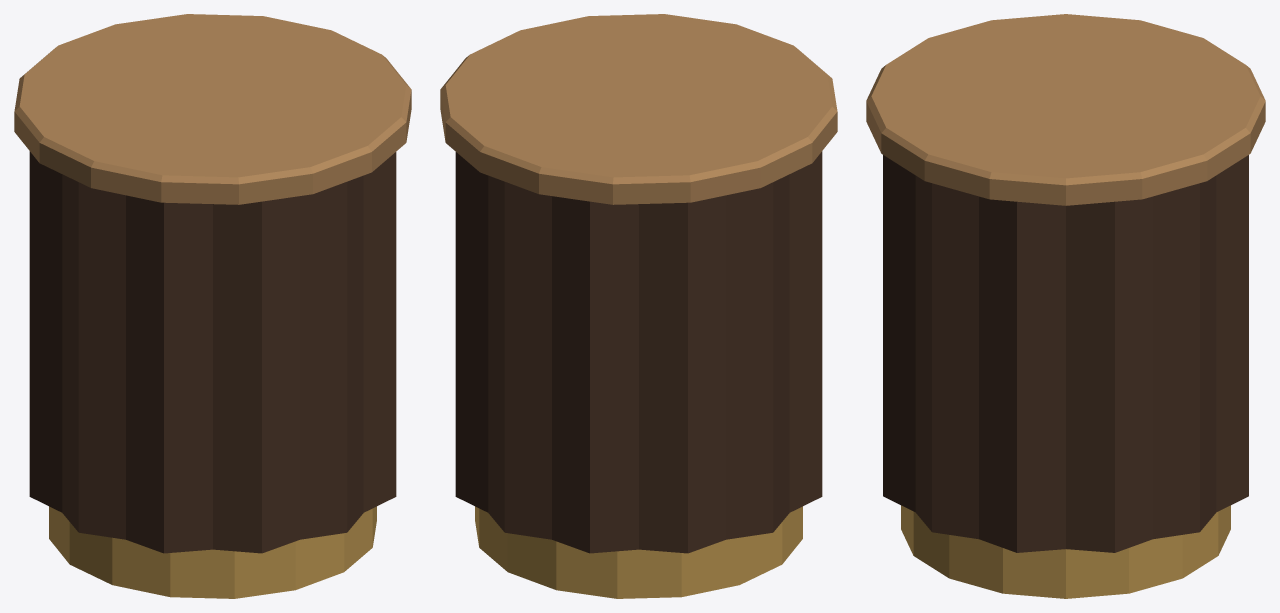
Rendered from FN_Table_Side_Drum.obj.
The picture shows the model from 3 angles, left to right: view 1: azimuth 30°, elevation 25°; view 2: azimuth 150°, elevation 25°; view 3: azimuth 270°, elevation 25°; orthographic projection.
Parts seen in each view (by area): view 1: FN_Table_Side_Drum; view 2: FN_Table_Side_Drum; view 3: FN_Table_Side_Drum.
Boxes of the visible parts, x1=… form: FN_Table_Side_Drum: x1=14, y1=14, x2=411, y2=598; FN_Table_Side_Drum: x1=440, y1=14, x2=837, y2=598; FN_Table_Side_Drum: x1=866, y1=14, x2=1265, y2=598.
Bounding box in the file's own units: 0.46 × 0.55 × 0.46.
Materials: 1 (1 with a texture image).
